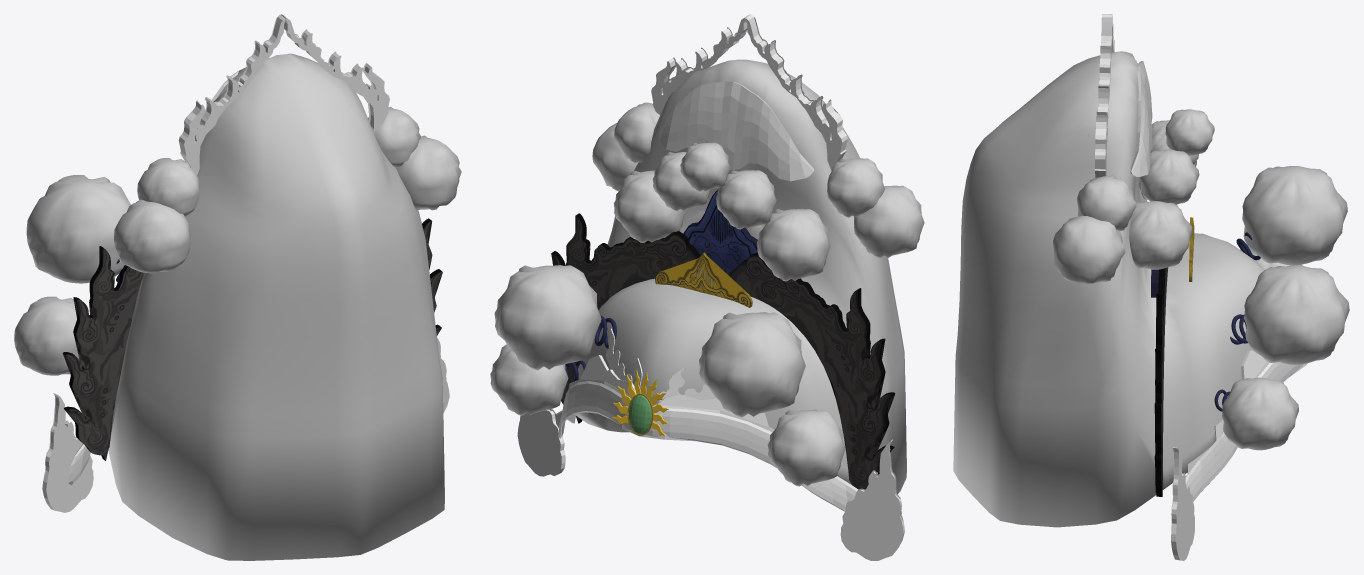
Rendered from The Hat ver 4.7 prototype files for Unity.fbx.
3 views of the same model, side by side, from view 1: azimuth 30°, elevation 25°; view 2: azimuth 150°, elevation 25°; view 3: azimuth 270°, elevation 25° (orthographic). The views are drawn at different scales.
Visible parts, largest first — view 1: The Crown (Main Object).001, Details 2 R flaming ear, Sphere.027, Sphere.016, Sphere.024, Fire details facade 1.001, Sphere.014, Details 3 R Top of the hat flame, Sphere.017, Details 3 R Top of the hat flame.001, Sphere.015, Details 2 L flaming ear; view 2: The Crown (Main Object).001, Details 2 R flaming ear, Sphere.027, Sphere.026, Crown decoration top, Detail 2 (crown facade), Details 2 L flaming ear, Sphere.024, Fire details facade 1.001, Sphere.018, Sphere.016, Sphere.023 (+17 smaller); view 3: The Crown (Main Object).001, Sphere.026, Sphere.027, Sphere.023, Sphere.014, Sphere.019, Sphere.020, Sphere.015, Detail 2 (crown facade), Details 2 L flaming ear, Details 3 R Top of the hat flame.001, Fire detail fecade 2.001 (+4 smaller).
Boxes of the visible parts, x1,y1,x2,y2 form: The Crown (Main Object).001: (108,53,444,560); Details 2 R flaming ear: (62,246,143,460); Sphere.027: (26,175,130,283); Sphere.016: (113,199,190,273); Sphere.024: (14,296,79,375); Fire details facade 1.001: (42,393,93,512); Sphere.014: (395,135,461,210); Details 3 R Top of the hat flame: (178,14,285,174); Sphere.017: (137,158,200,216); Details 3 R Top of the hat flame.001: (281,14,389,132); Sphere.015: (368,106,420,167); Details 2 L flaming ear: (422,218,442,335); The Crown (Main Object).001: (576,59,906,494); Details 2 R flaming ear: (728,253,895,489); Sphere.027: (699,312,805,417); Sphere.026: (494,265,601,370); Crown decoration top: (659,81,813,181); Detail 2 (crown facade): (555,381,858,511); Details 2 L flaming ear: (551,213,700,423); Sphere.024: (767,409,845,486); Fire details facade 1.001: (840,439,904,560); Sphere.018: (757,208,830,281); Sphere.016: (854,185,924,258); Sphere.023: (490,344,568,415); The Crown (Main Object).001: (953,51,1264,527); Sphere.026: (1244,265,1349,364); Sphere.027: (1242,166,1347,265); Sphere.023: (1222,377,1298,450); Sphere.014: (1053,215,1125,283); Sphere.019: (1129,201,1192,269); Sphere.020: (1139,149,1199,204); Sphere.015: (1077,174,1136,231); Detail 2 (crown facade): (1185,362,1303,501); Details 2 L flaming ear: (1154,267,1168,496); Details 3 R Top of the hat flame.001: (1095,14,1112,178); Fire detail fecade 2.001: (1171,447,1194,560).
Size of the model in its own units: 120 by 138 by 107.
